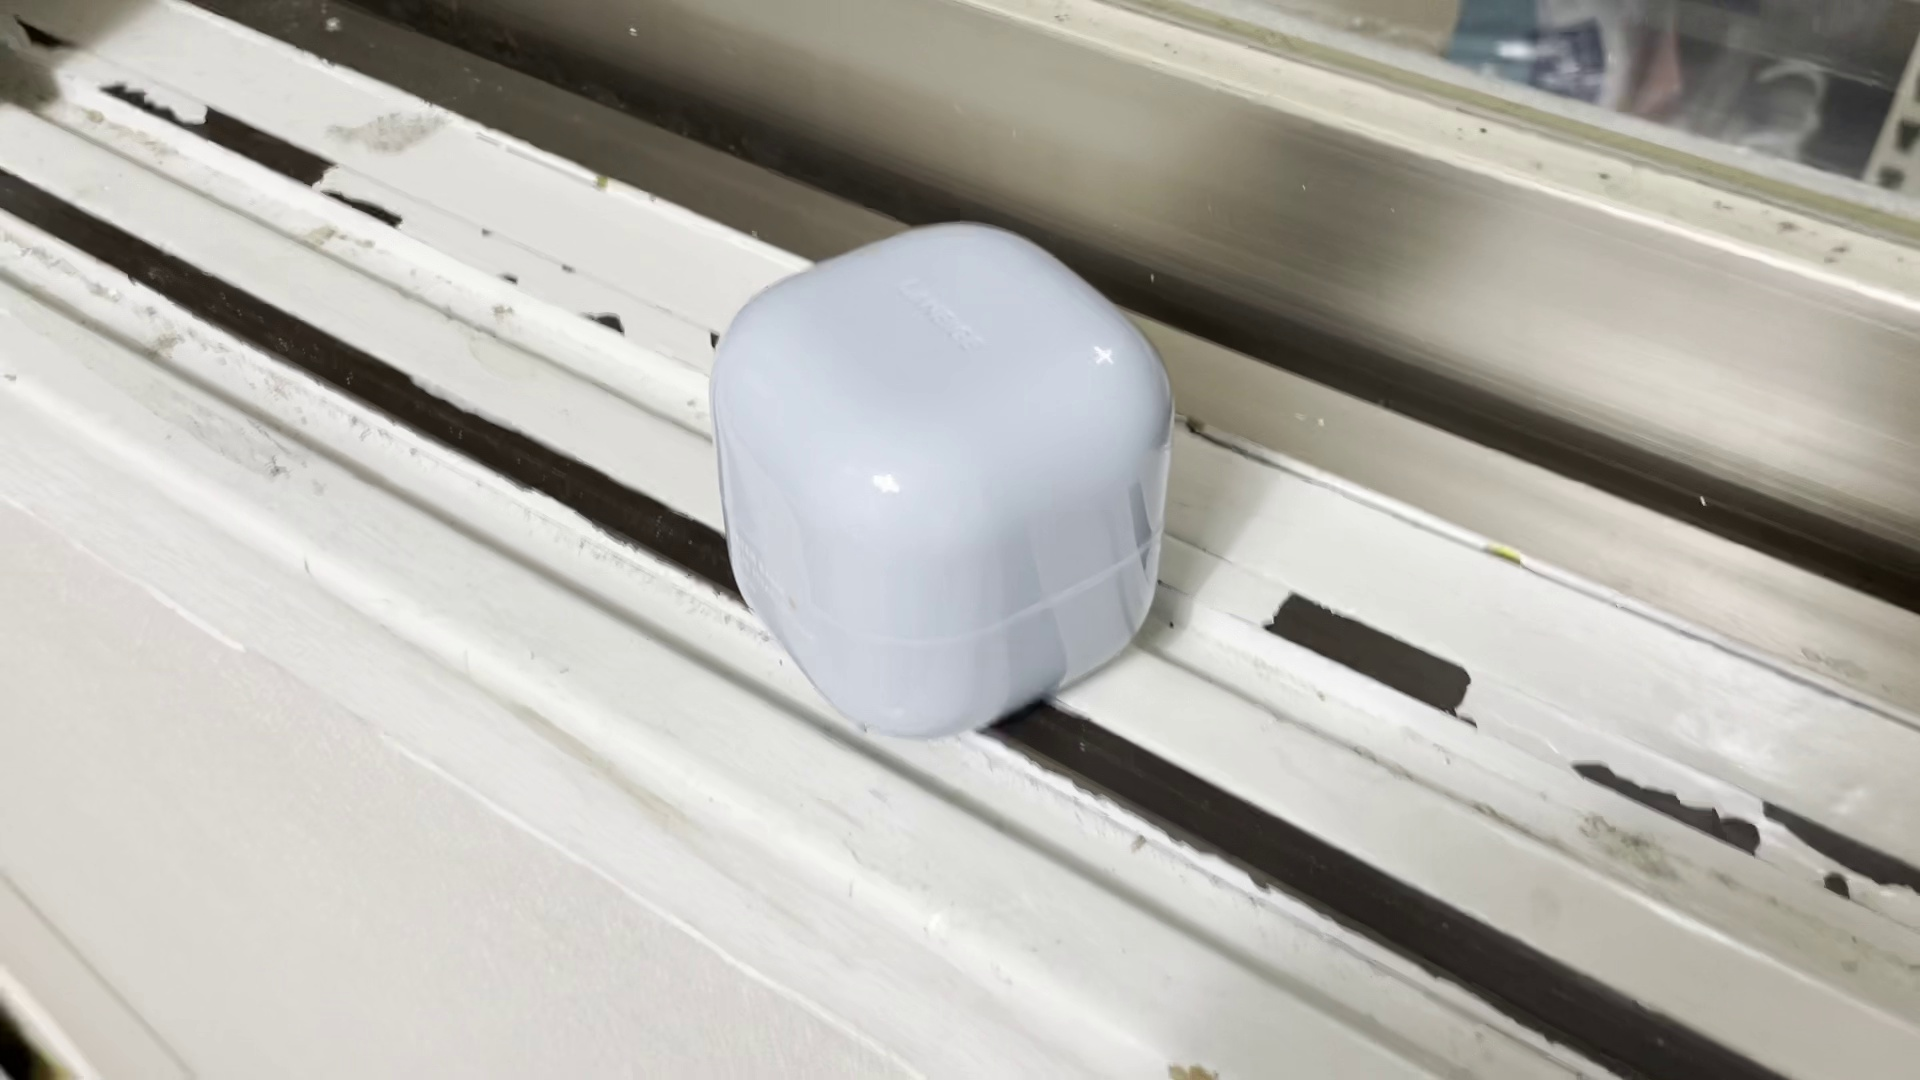cream: (712, 219, 1171, 733)
